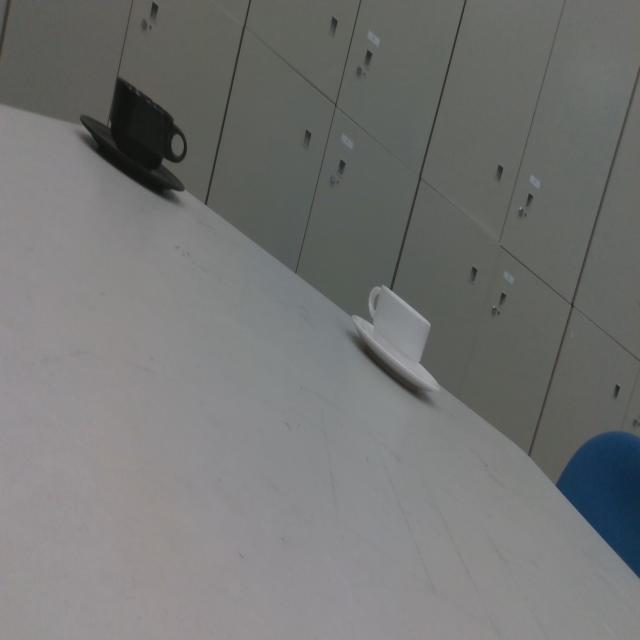black: (79, 73, 188, 194)
white: (350, 282, 443, 400)
